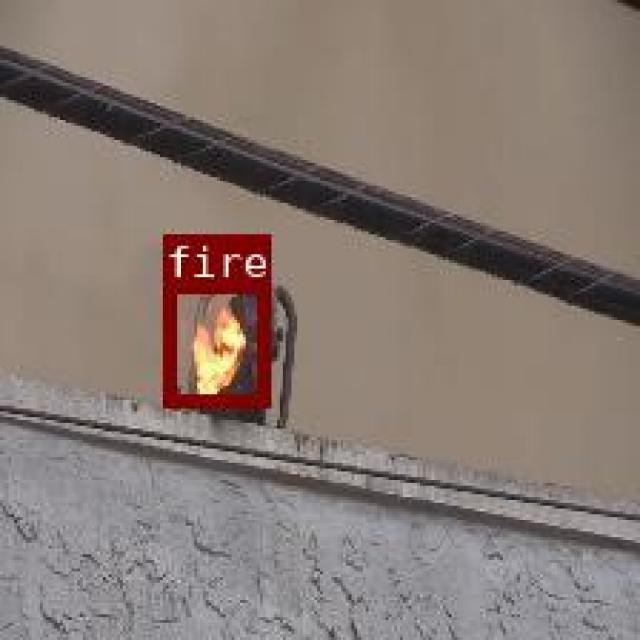fire: (162, 279, 269, 405)
